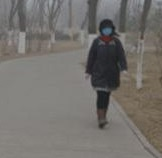person: (83, 18, 129, 130)
